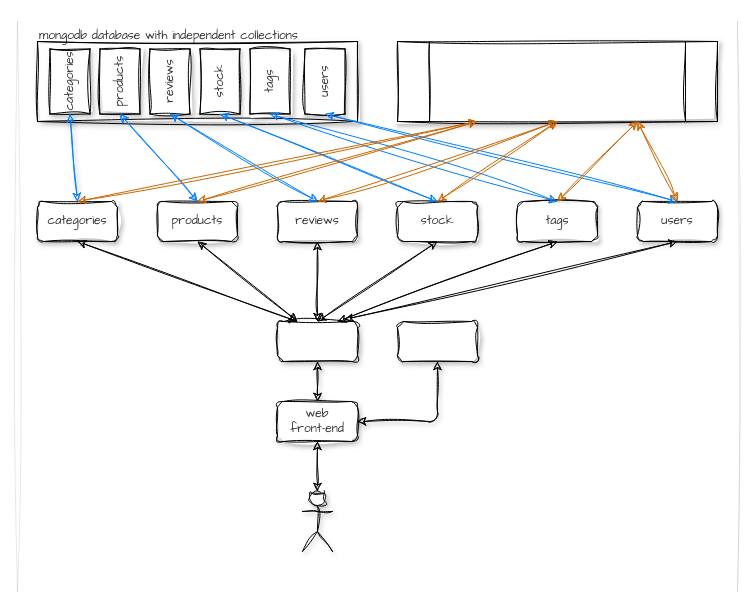
The diagram is 755 pixels wide and 609 high, and some of its shapes have lost their labels. The shapes that lost their labels are listed below. From the top down, each one's centre as x and y in pixels, then its label:
At (558,82): "pubsub".
At (318,342): "apollo gateway".
At (438,342): "identity".
At (318,522): "end user".
